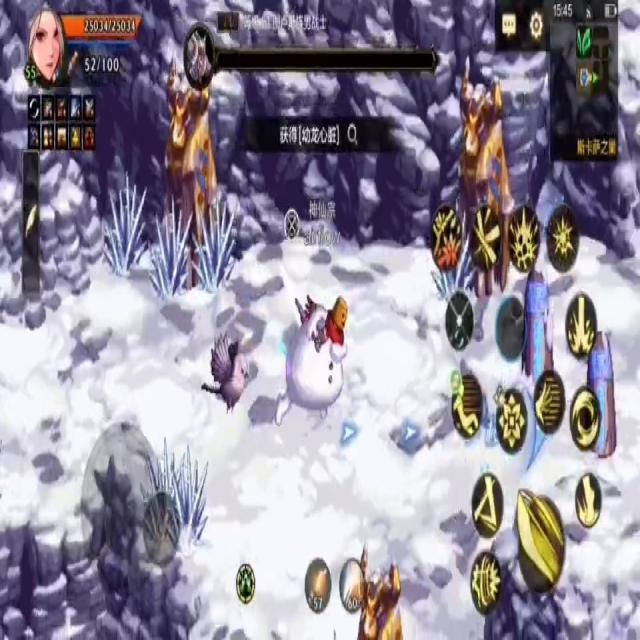player: (276, 285, 349, 437)
